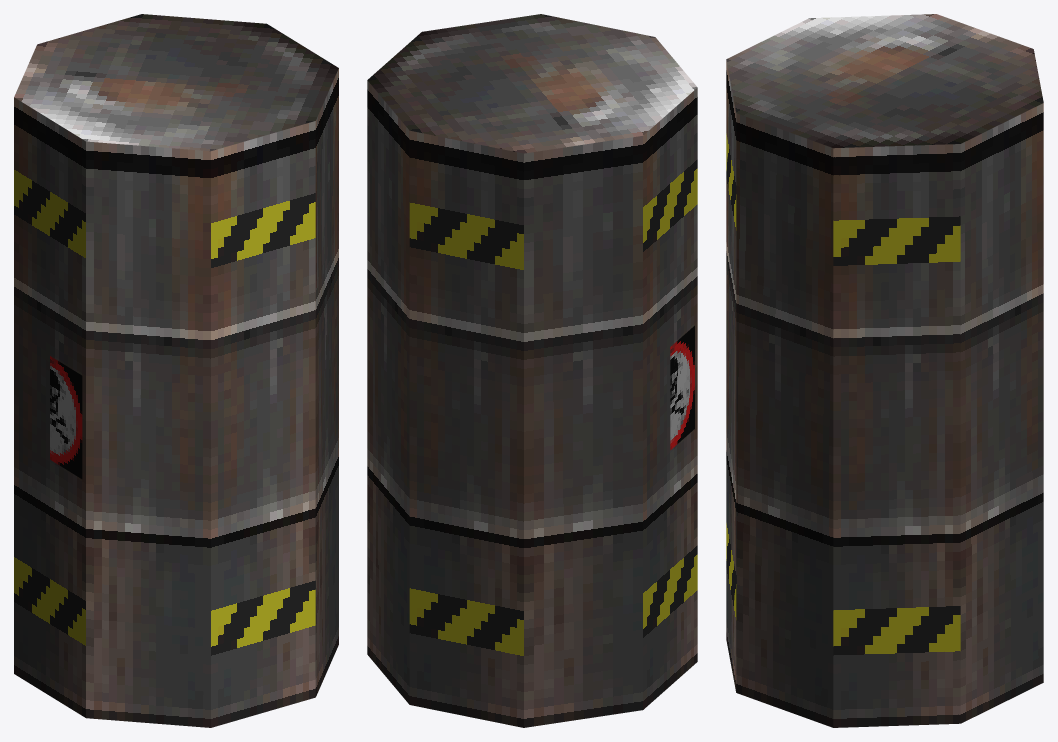
The model's file is primary_097.glb.
3 views of the same model, side by side, from view 1: azimuth 30°, elevation 25°; view 2: azimuth 150°, elevation 25°; view 3: azimuth 270°, elevation 25° (orthographic).
Parts seen in each view (by area): view 1: Object; view 2: Object; view 3: Object.
Boxes of the visible parts, box(x1,y1,x2,y2) form: Object: box(14, 14, 338, 727); Object: box(367, 14, 697, 727); Object: box(726, 14, 1043, 727).
Size of the model in its own units: 1.48 by 2.99 by 1.48.
Materials: 9 (9 with a texture image).
